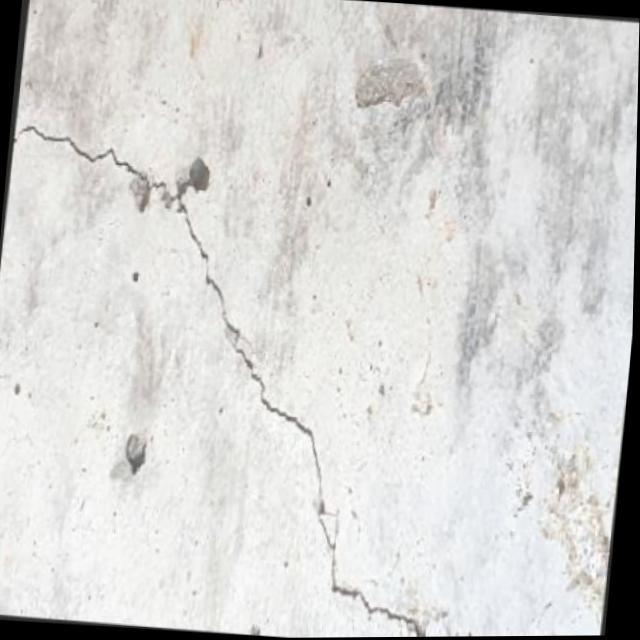Crack: (27, 108, 427, 613)
